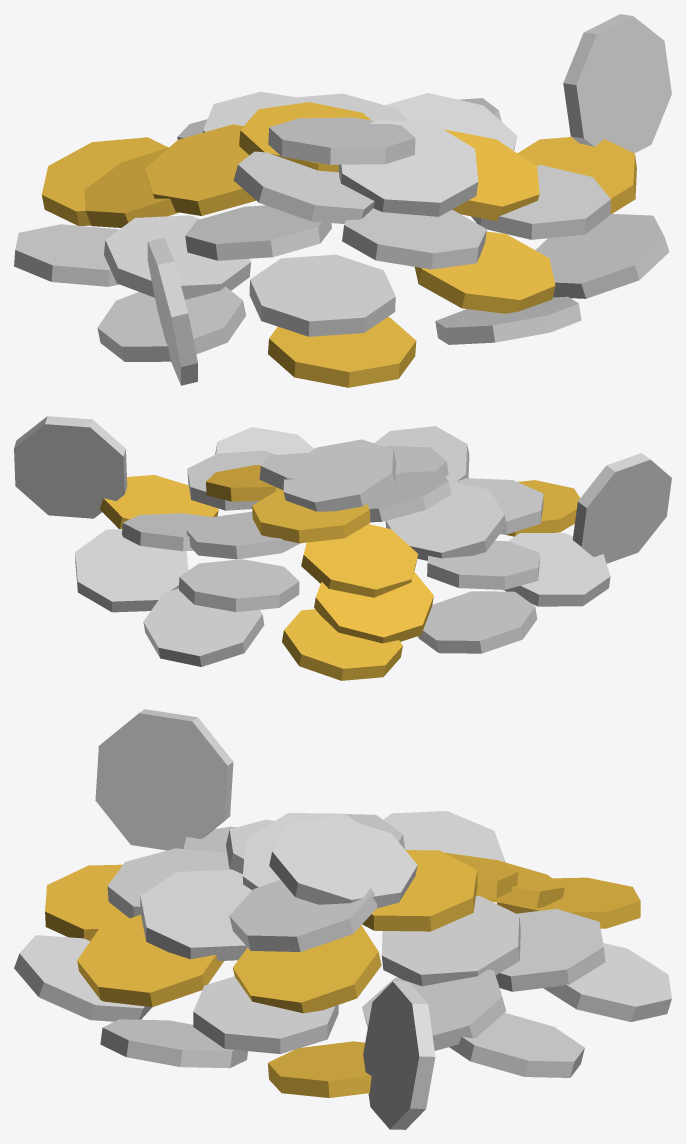
File: loot_gold.glb
The picture shows the model from 3 angles, top to bottom: view 1: azimuth 30°, elevation 25°; view 2: azimuth 150°, elevation 25°; view 3: azimuth 270°, elevation 25°; orthographic projection. The views are drawn at different scales.
Visible parts, largest first — view 1: loot_gold; view 2: loot_gold; view 3: loot_gold.
Boxes of the visible parts, x1=… form: loot_gold: x1=14, y1=14, x2=671, y2=387; loot_gold: x1=14, y1=416, x2=671, y2=680; loot_gold: x1=14, y1=709, x2=671, y2=1129.
Bounding box in the file's own units: 0.3459 × 0.0741 × 0.3016.
